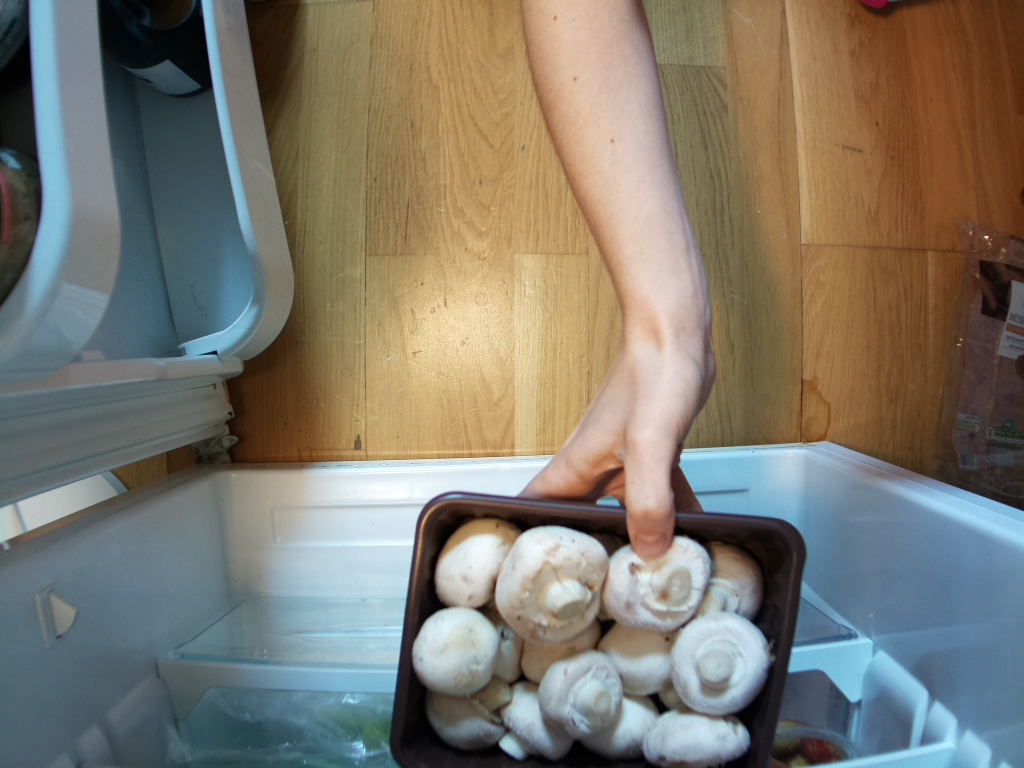mushrooms: (385, 481, 815, 768)
